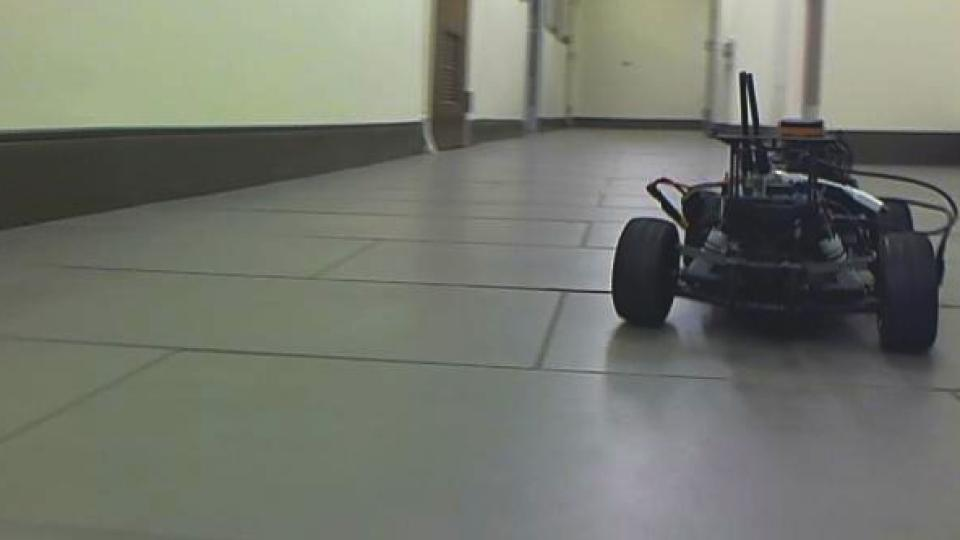car: (606, 69, 960, 356)
